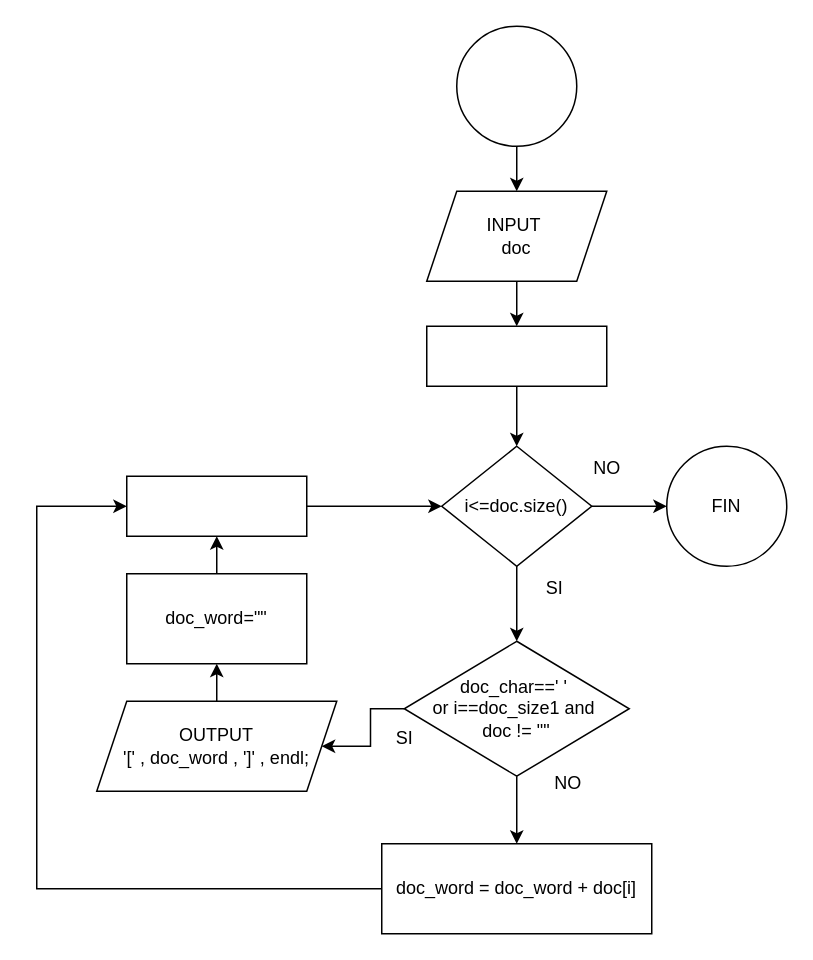
Some shapes in this 813 by 960 pixel diagram are drawn without their labels. Here are the shapes that lost their labels. From the top down, the centre of each, then its label:
[516,85]: INICIO
[516,355]: i=0 doc_word
[216,505]: ++i
